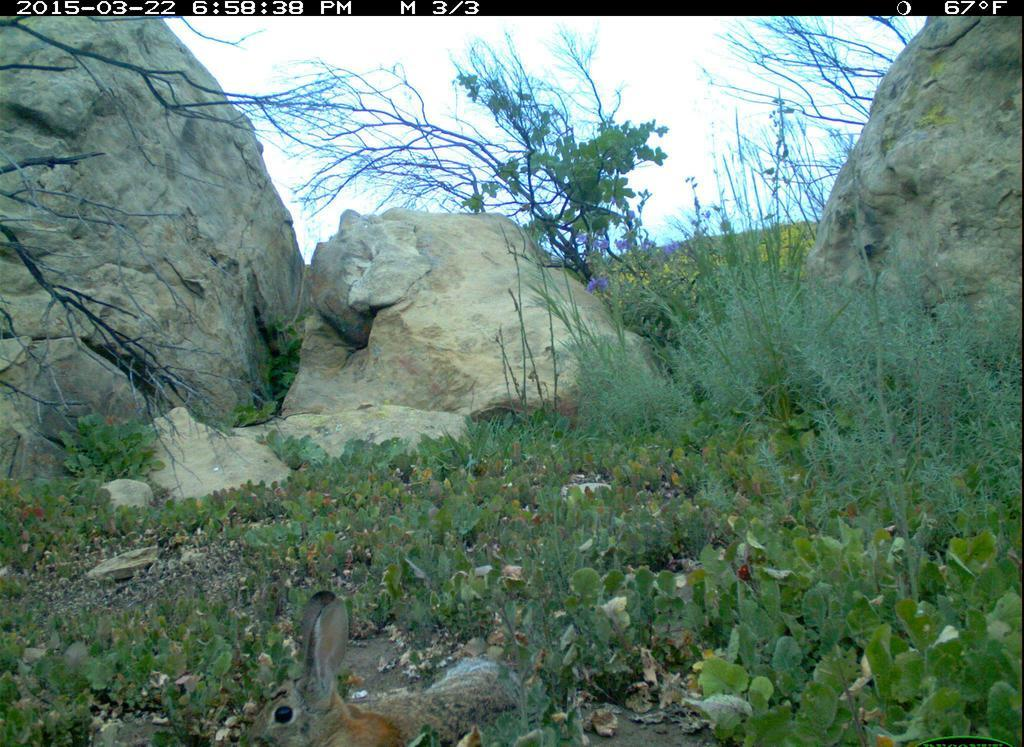rabbit: (233, 585, 420, 747)
